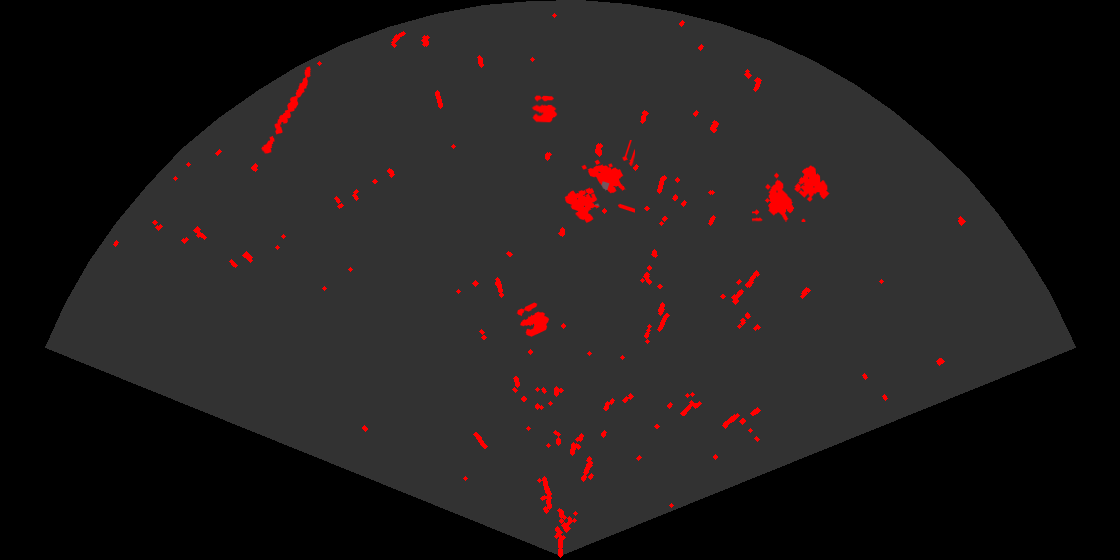ball: (515, 301, 551, 338), (530, 94, 559, 124)
cage: (563, 140, 635, 224), (752, 164, 831, 222)
chain: (260, 65, 312, 155)
